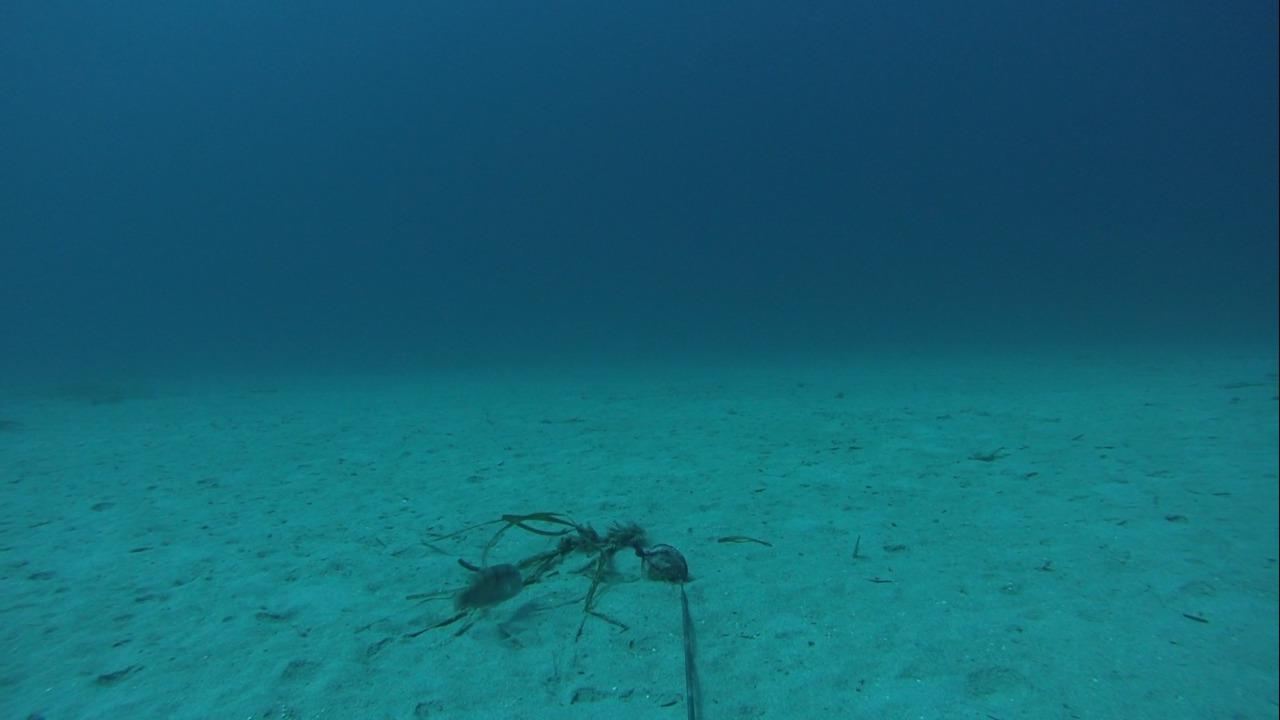raor: (449, 558, 529, 614)
